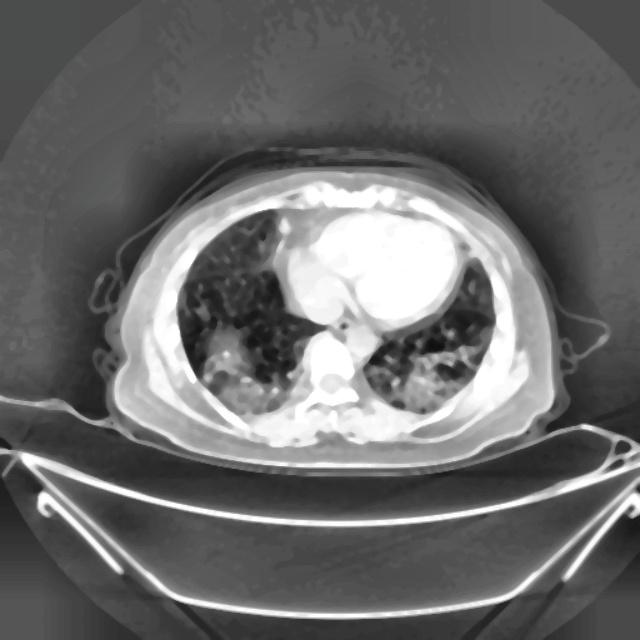covid: (92, 146, 584, 476)
